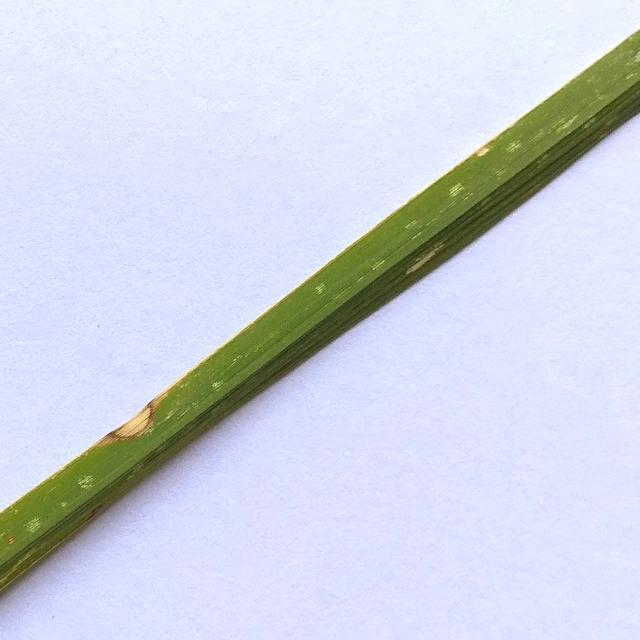Blast: (121, 412, 148, 438), (474, 148, 494, 154)
